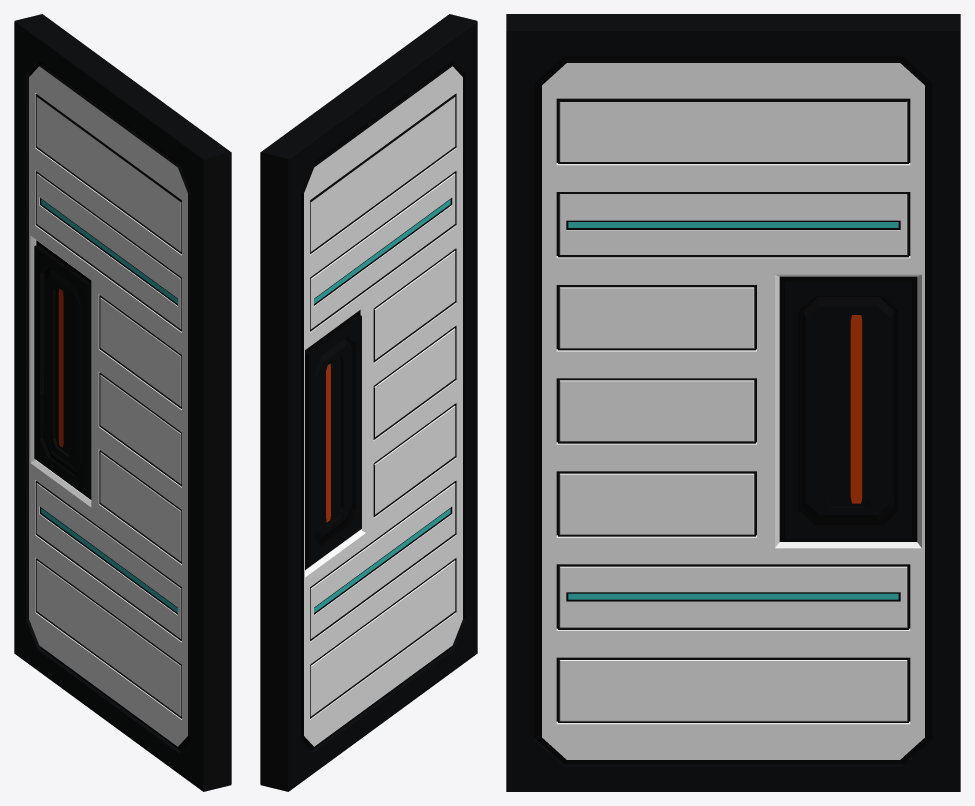
The model's file is SM_Door_Double_V3L.obj.
The picture shows the model from 3 angles, left to right: view 1: azimuth 30°, elevation 25°; view 2: azimuth 150°, elevation 25°; view 3: azimuth 270°, elevation 25°; orthographic projection. The views are drawn at different scales.
Parts seen in each view (by area): view 1: SM_Door_Double_V3L; view 2: SM_Door_Double_V3L; view 3: SM_Door_Double_V3L.
Part boxes in pixels (bbox=[...]): SM_Door_Double_V3L: bbox=[14, 14, 231, 791]; SM_Door_Double_V3L: bbox=[260, 14, 477, 791]; SM_Door_Double_V3L: bbox=[506, 14, 960, 791].
Bounding box in the file's own units: 0.0885 × 1.85 × 1.
